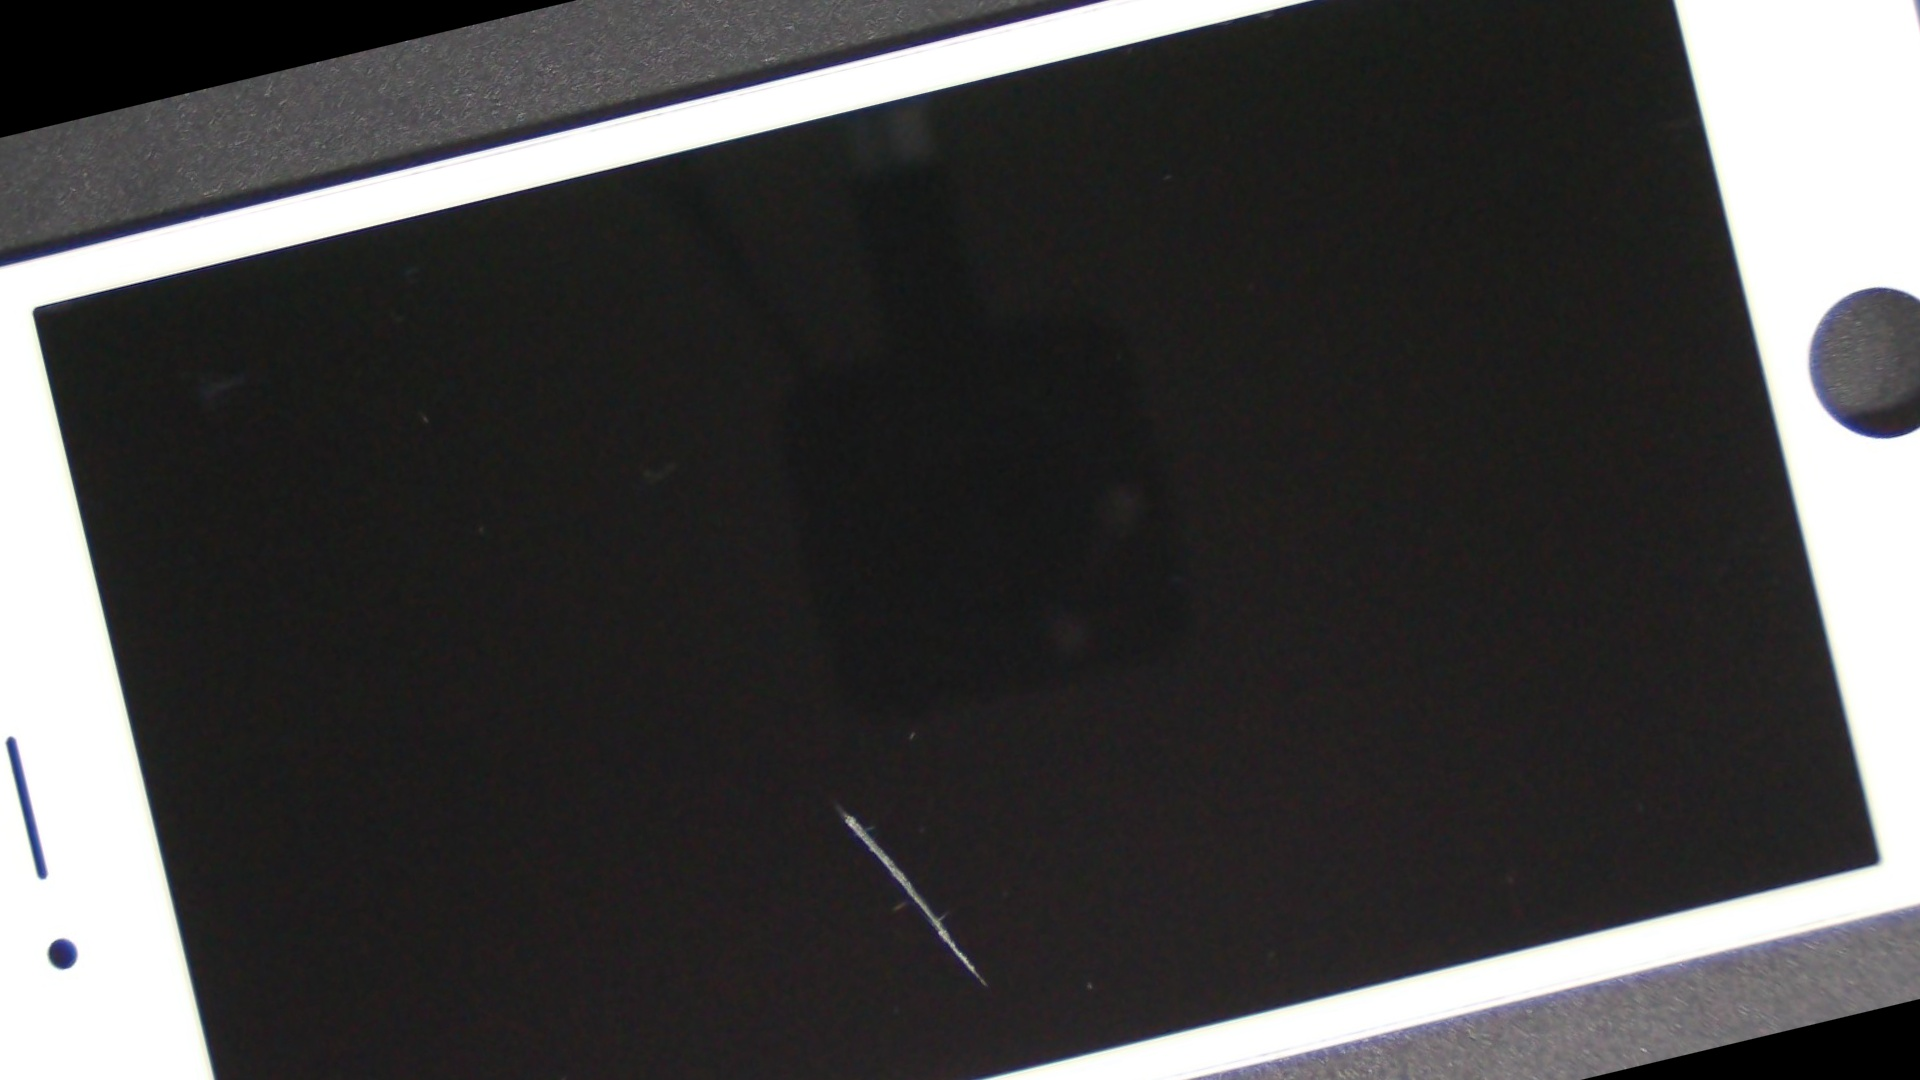oil: (286, 286, 1379, 1080)
